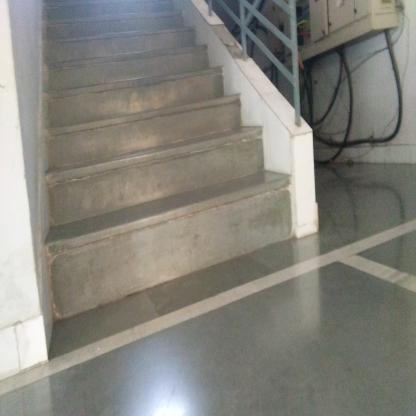stairs: (48, 15, 201, 320)
